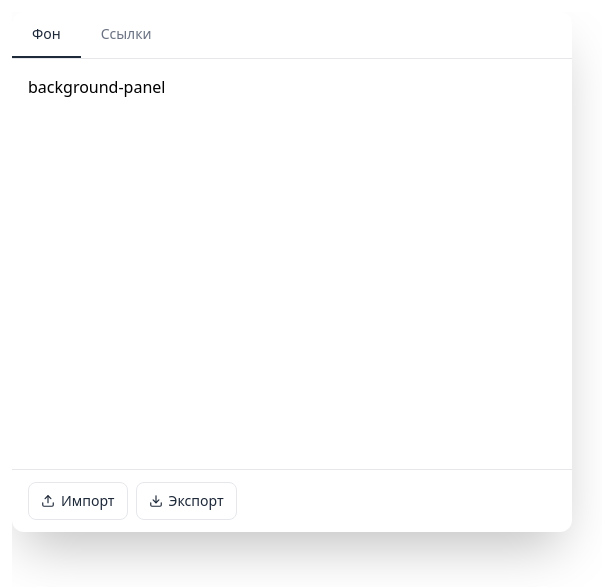
settingsWrap переключает вкладку на ссылки
The width and height of the screenshot is (602, 587).
Click the button "Ссылки". click: {"x": 126, "y": 35}
box: [81,12,172,58]
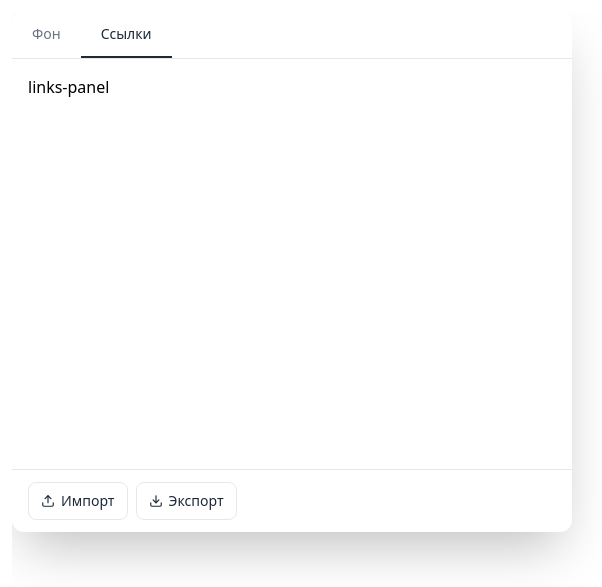
Expected: the text "links-panel" is shown, [28,76,109,98]
Expected: the text "background-panel" is gone
